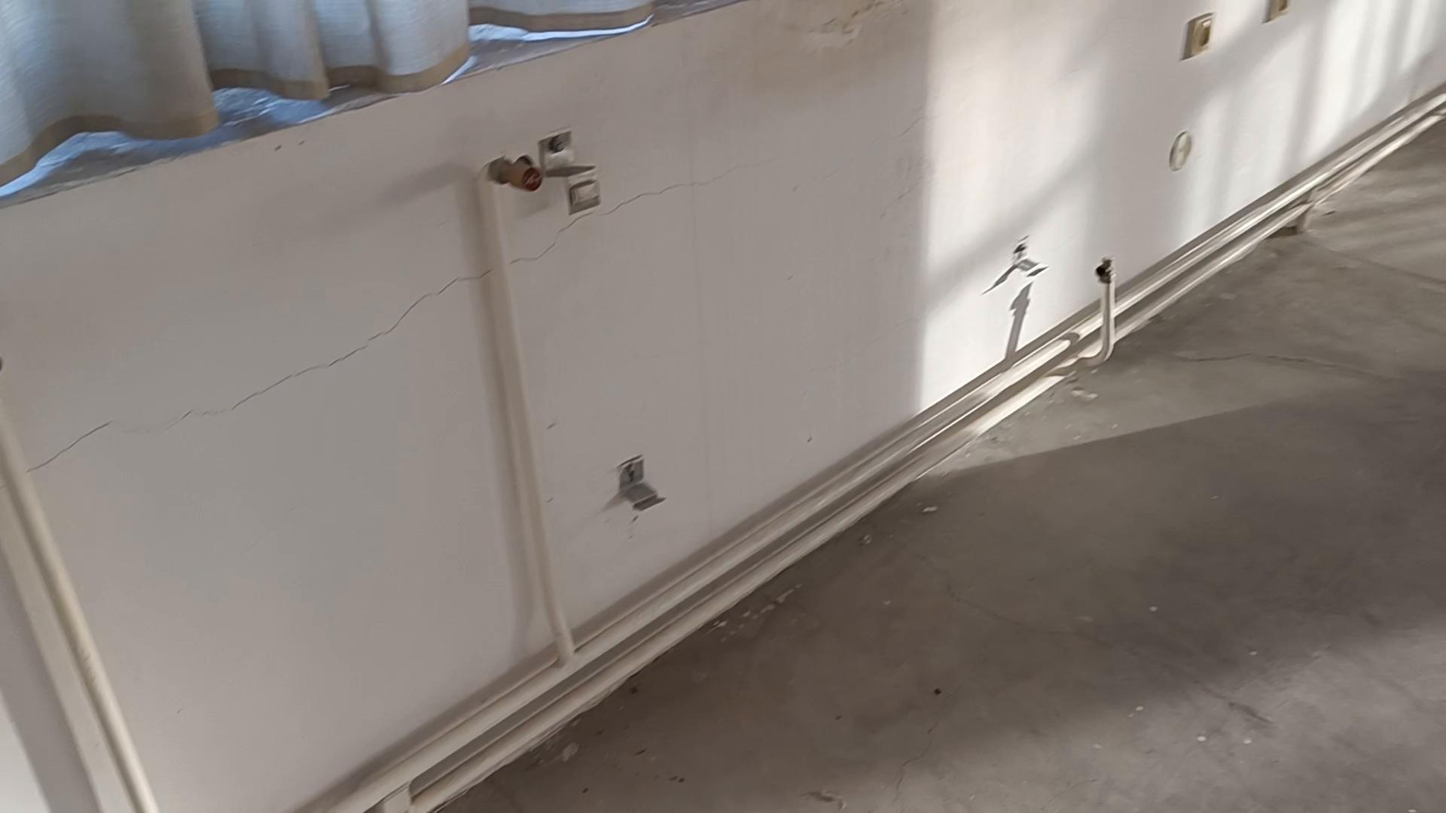floor: (443, 122, 1445, 812)
wall: (1, 0, 1431, 812)
